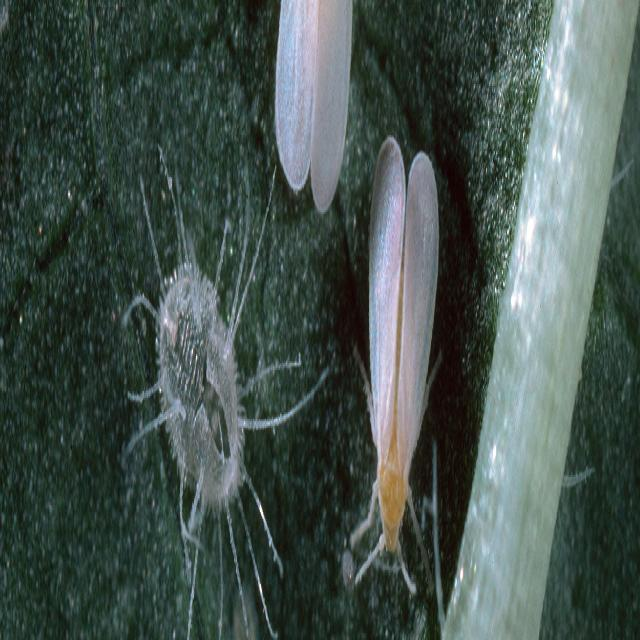Whiteflies: (352, 105, 444, 614)
